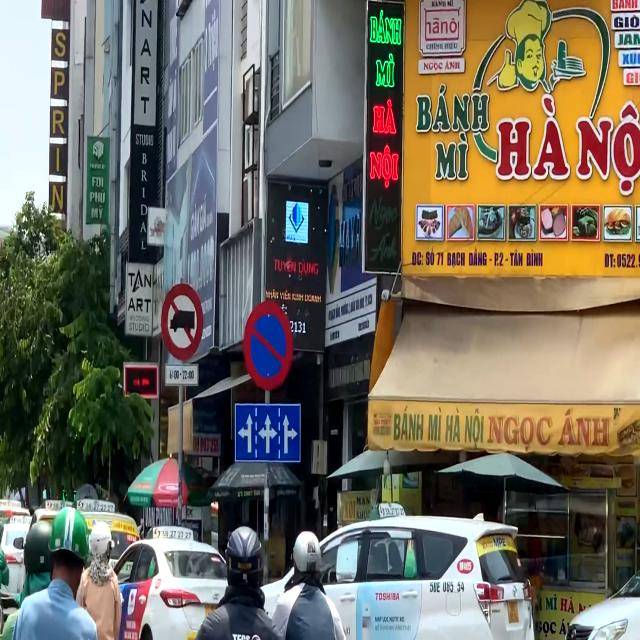P.106a: (161, 282, 206, 363)
P.131a: (246, 295, 294, 393)
